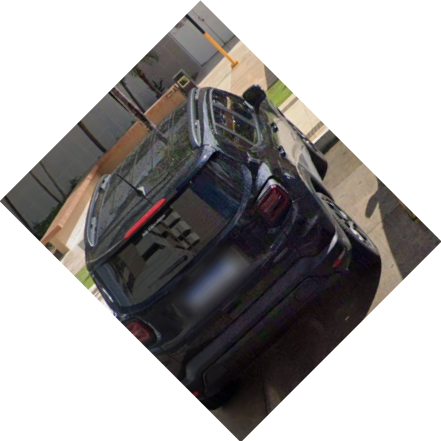car: (80, 82, 377, 378)
